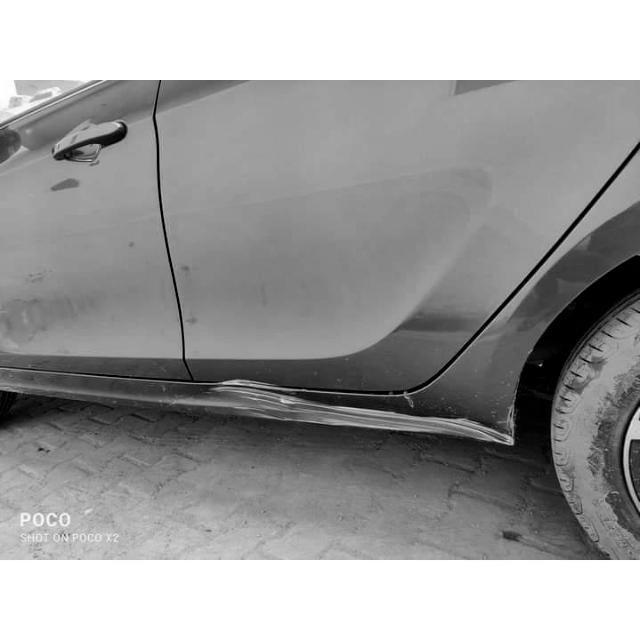Runningboard-Damage: (177, 364, 523, 448)
doorouter-dent: (384, 299, 537, 347)
